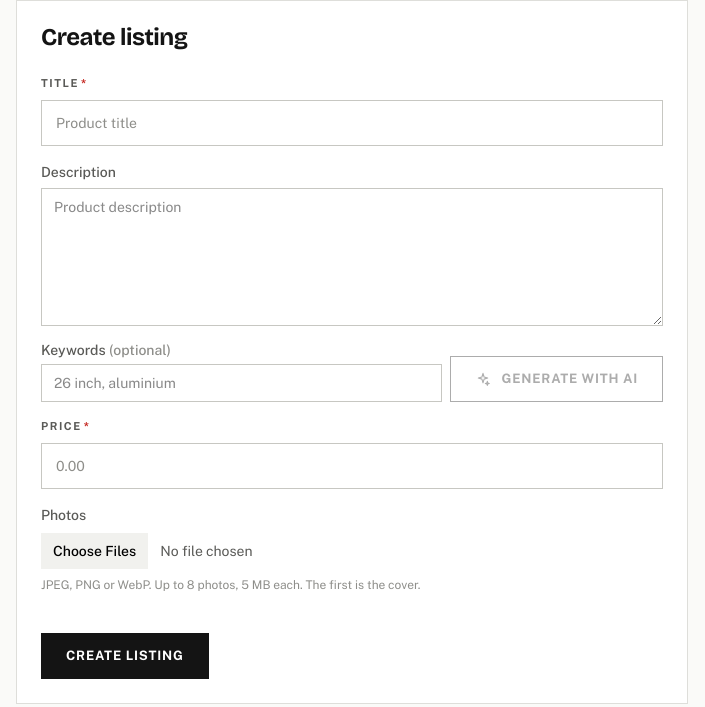
Test: M10 — a blank submit shows one error summary › wires aria-invalid and aria-describedby on Title and Price themselves, not just the summary
This screenshot has width=705, height=707.
Click the button "Create listing" at (125, 656), box [41,633,209,679]
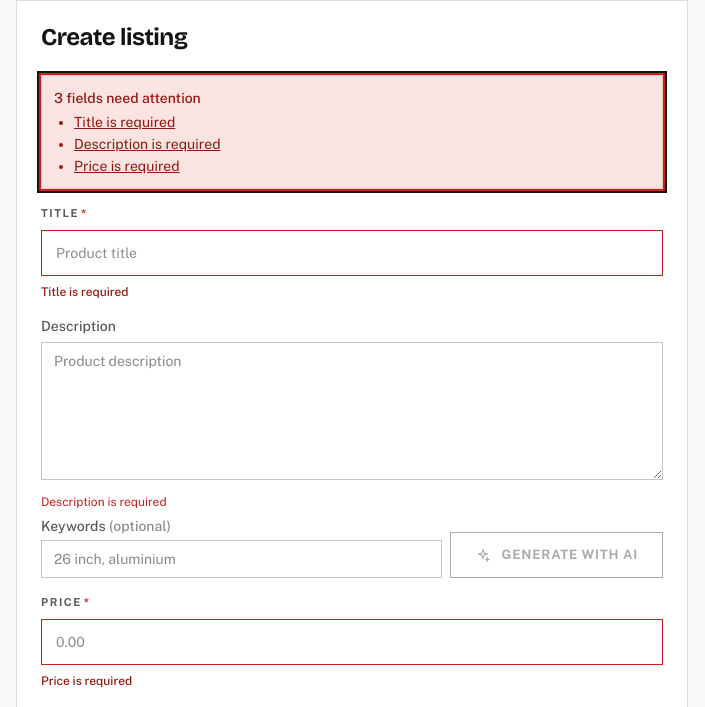
Expected: the text "3 fields need attention" is shown, [54,90,201,106]
Expected: the message "Title is required" is shown, [41,285,129,299]
Expected: the message "Price is required" is shown, [41,674,132,688]
